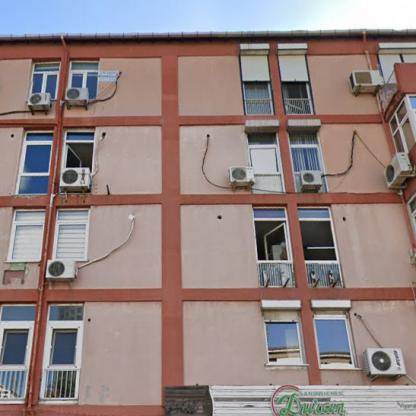window: (40, 303, 84, 399), (1, 302, 36, 401), (299, 208, 342, 286), (253, 208, 294, 286), (17, 132, 53, 194), (248, 131, 284, 191), (263, 312, 303, 364), (290, 134, 326, 191), (314, 314, 352, 365), (9, 208, 45, 261), (278, 57, 312, 113), (55, 210, 90, 259), (242, 57, 272, 113), (388, 96, 415, 152), (70, 62, 98, 99), (63, 134, 93, 167), (32, 63, 60, 93), (410, 193, 415, 236)
